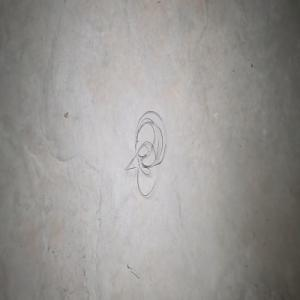Wire: (124, 110, 165, 195)
